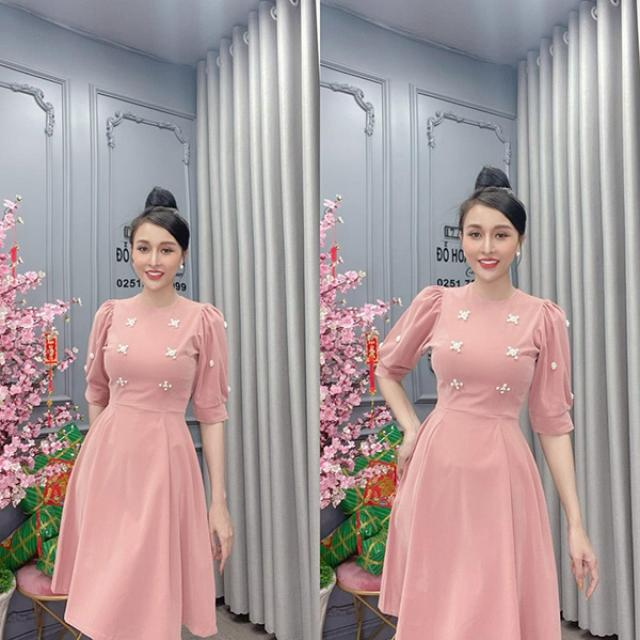clothes: (355, 274, 593, 640), (52, 291, 234, 640)
